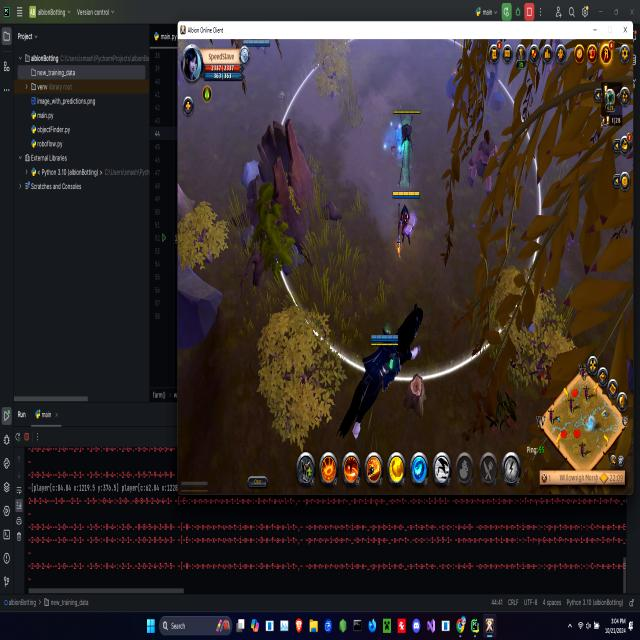red: (336, 304, 427, 449), (465, 124, 501, 203), (388, 188, 423, 258)
